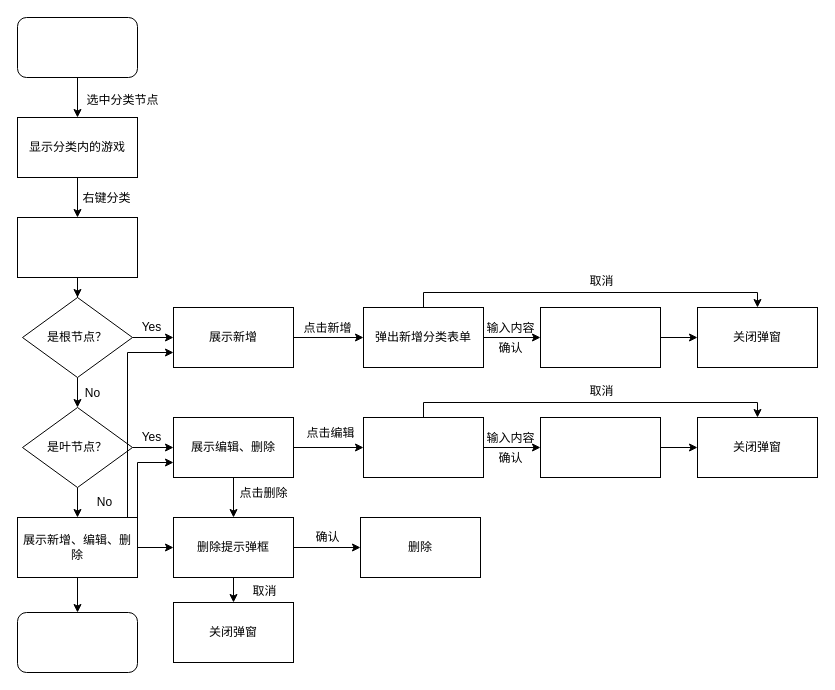
The diagram is 835 pixels wide and 690 high, and some of its shapes have lost their labels. The box of each missing label's shape, as (x1, y1, x2, y2) in pixels:
展示操作菜单: (16, 216, 138, 278)
开始: (16, 16, 138, 78)
弹出编辑分类表单: (362, 416, 484, 478)
提交新增分类: (540, 306, 660, 368)
提交编辑分类: (540, 416, 660, 478)
结束: (16, 612, 138, 672)
